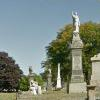Statue: (65, 5, 88, 65)
